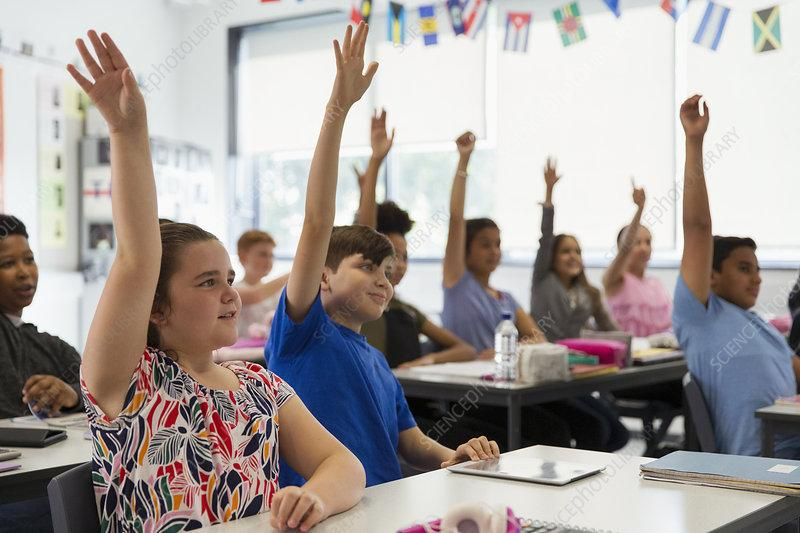study: (62, 24, 364, 533), (270, 18, 499, 479), (672, 93, 800, 407), (443, 121, 548, 355), (529, 152, 619, 338), (598, 175, 666, 330)
